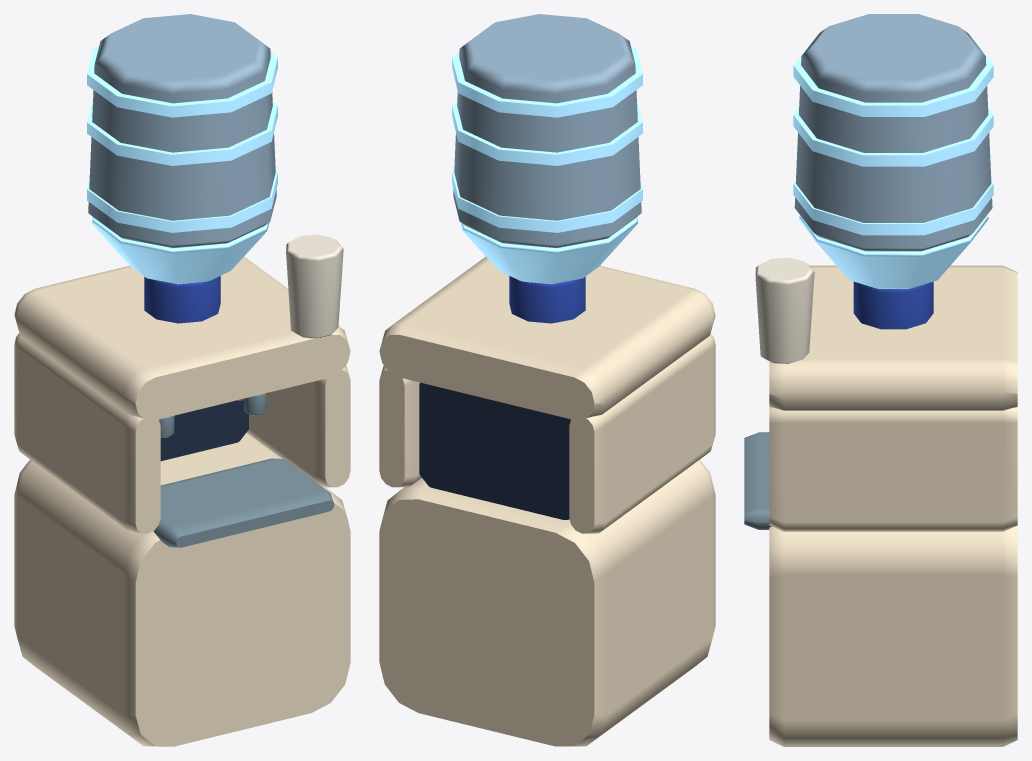
Rendered from water_cooler.glb.
3 views of the same model, side by side, from view 1: azimuth 30°, elevation 25°; view 2: azimuth 150°, elevation 25°; view 3: azimuth 270°, elevation 25° (orthographic). The views are drawn at different scales.
Parts seen in each view (by area): view 1: water_cooler; view 2: water_cooler; view 3: water_cooler.
Part boxes in pixels (x1=…): water_cooler: x1=14, y1=14, x2=350, y2=746; water_cooler: x1=379, y1=14, x2=715, y2=746; water_cooler: x1=744, y1=14, x2=1017, y2=746.
Bounding box in the file's own units: 0.63 × 1.73 × 0.65.
